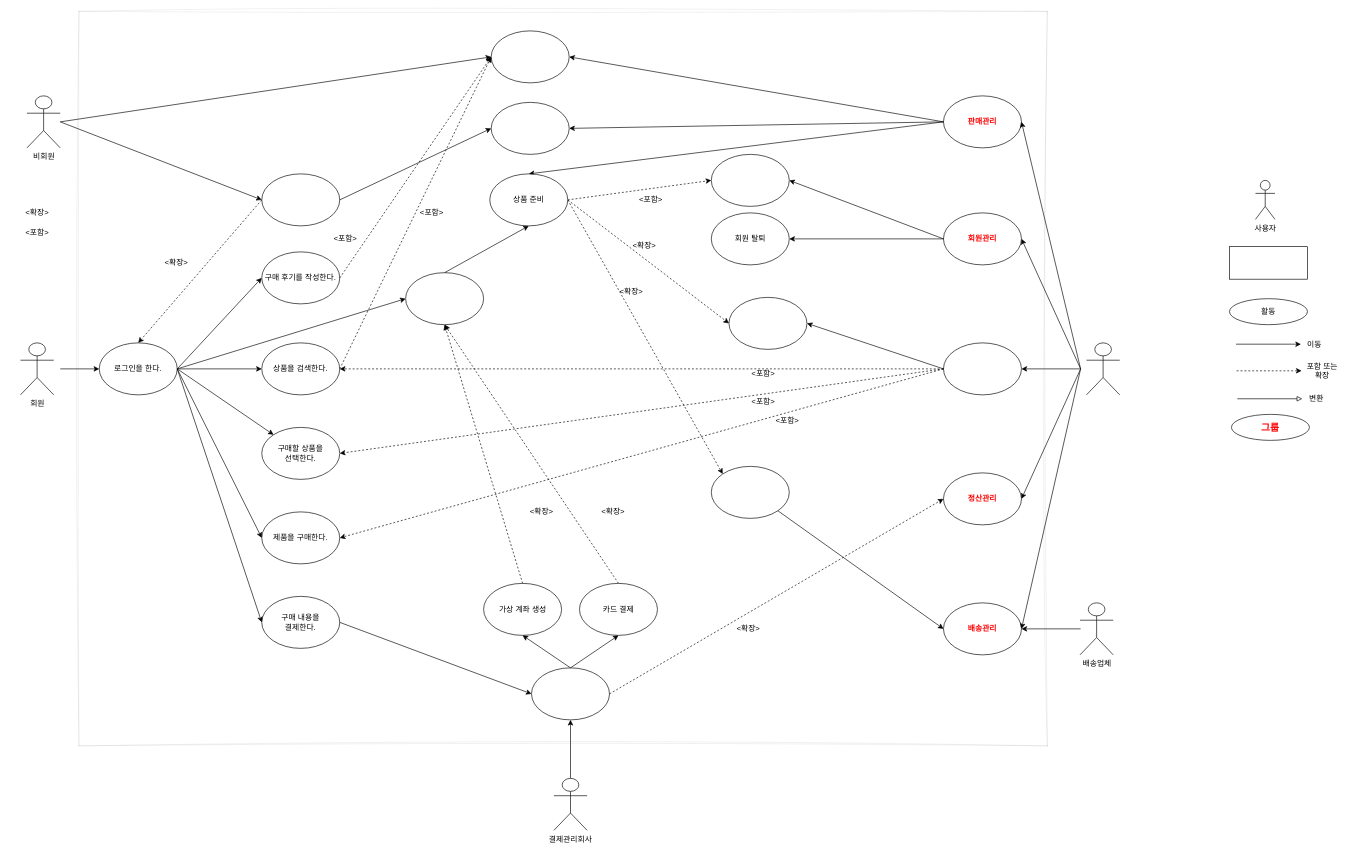
Some shapes in this 1353 by 855 pixel diagram are drawn without their labels. Each missing label, with the centre of its shape:
"결제 시스템" goes at point 570,693.
"결제완료" goes at point 444,298.
"공지사항" goes at point 530,128.
"관리자" goes at point 1103,368.
"구매 후기" goes at point 530,56.
"상품 배송" goes at point 750,492.
"상품관리" goes at point 982,368.
"시스템" goes at point 1268,262.
"재고조정" goes at point 767,323.
"회원 가입을 한다." goes at point 300,199.
"회원 정보 보관" goes at point 750,180.
